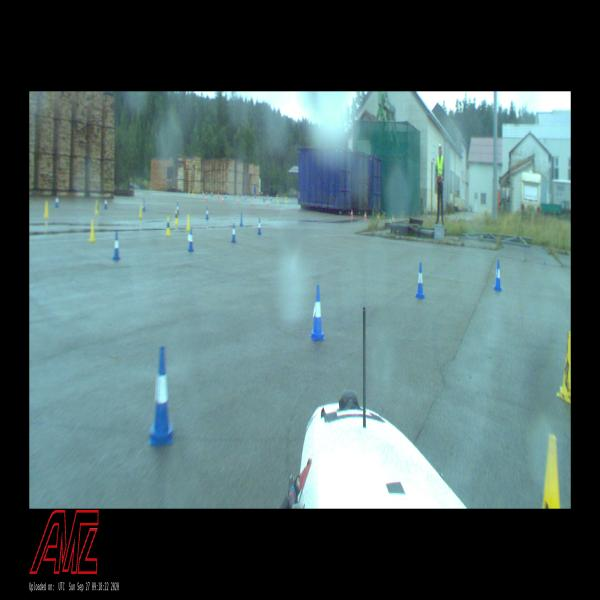blue_cone: (149, 346, 175, 445), (310, 286, 325, 340), (415, 262, 425, 298), (494, 260, 502, 291), (113, 231, 120, 259), (188, 228, 194, 252), (231, 224, 236, 242), (257, 218, 262, 234), (55, 195, 59, 208), (142, 199, 146, 211), (205, 207, 208, 219), (104, 198, 107, 208), (240, 214, 242, 226), (177, 203, 179, 214)
orange_cone: (364, 212, 367, 220), (221, 196, 224, 204), (351, 210, 353, 218), (237, 197, 239, 205), (252, 200, 254, 206), (217, 192, 219, 198), (267, 200, 268, 206)
yellow_cone: (542, 434, 560, 509), (556, 331, 571, 403), (90, 220, 96, 241), (166, 216, 171, 235), (174, 210, 179, 224), (44, 201, 48, 217), (95, 200, 99, 214), (139, 204, 143, 217), (187, 214, 190, 230)
